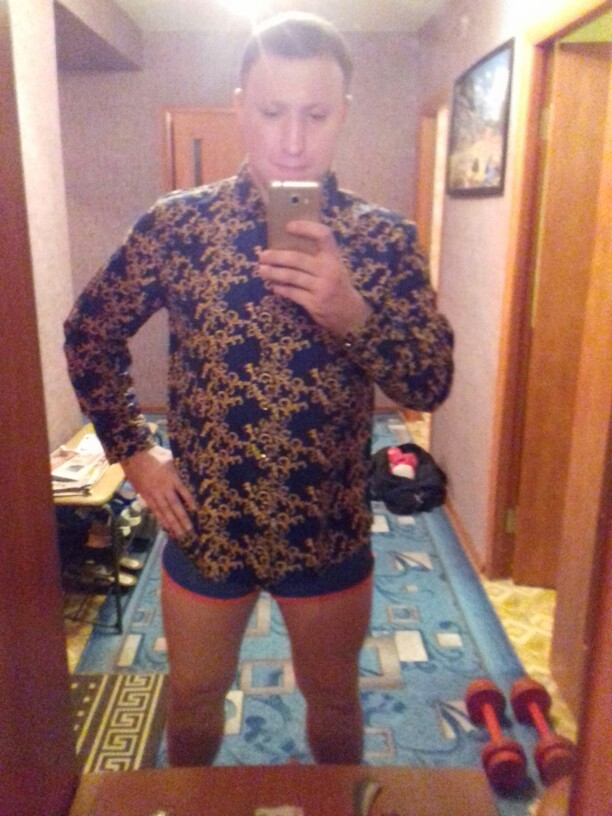shirts: (65, 163, 451, 581)
